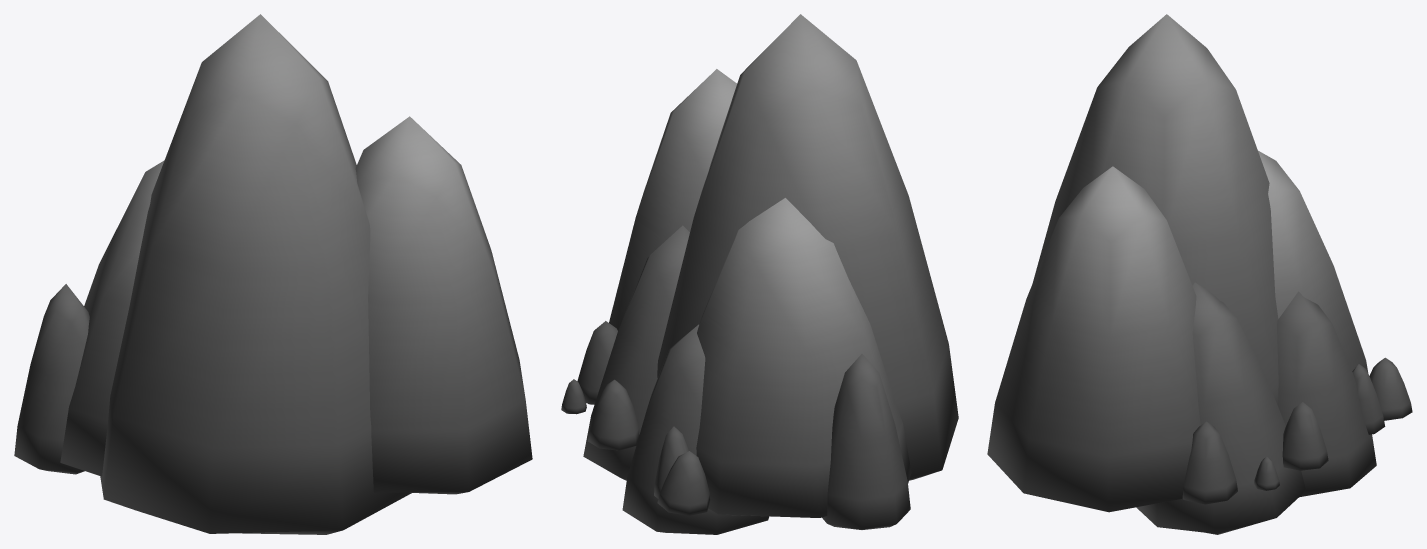
File: Variation_02.fbx
The picture shows the model from 3 angles, left to right: view 1: azimuth 30°, elevation 25°; view 2: azimuth 150°, elevation 25°; view 3: azimuth 270°, elevation 25°; orthographic projection. The views are drawn at different scales.
Visible parts, largest first — view 1: Cylinder.061, Cylinder.062, Cylinder.058, Cylinder.060; view 2: Cylinder.061, Cylinder.058, Cylinder.060, Cylinder.062, Cylinder.057, Cylinder.022, Cylinder.027, Cylinder.059, Cylinder.023, Cylinder.028, Cylinder.024; view 3: Cylinder.062, Cylinder.061, Cylinder.022, Cylinder.057, Cylinder.058, Cylinder.023, Cylinder.027, Cylinder.059, Cylinder.028, Cylinder.024.
Boxes of the visible parts, x1,y1,x2,y2 form: Cylinder.061: (100, 14, 411, 534); Cylinder.062: (355, 116, 532, 494); Cylinder.058: (60, 160, 164, 476); Cylinder.060: (14, 284, 89, 474); Cylinder.061: (657, 14, 958, 480); Cylinder.058: (696, 198, 911, 517); Cylinder.060: (822, 354, 910, 529); Cylinder.062: (609, 69, 736, 330); Cylinder.057: (622, 324, 769, 534); Cylinder.022: (583, 225, 689, 480); Cylinder.027: (588, 379, 639, 450); Cylinder.059: (657, 451, 710, 515); Cylinder.023: (577, 321, 617, 404); Cylinder.028: (654, 426, 688, 498); Cylinder.024: (561, 379, 586, 414); Cylinder.062: (987, 166, 1200, 512); Cylinder.061: (1033, 14, 1278, 405); Cylinder.022: (1136, 282, 1305, 534); Cylinder.057: (1277, 291, 1376, 497); Cylinder.058: (1258, 150, 1368, 372); Cylinder.023: (1182, 421, 1237, 504); Cylinder.027: (1282, 402, 1328, 470); Cylinder.059: (1369, 357, 1412, 420); Cylinder.028: (1352, 364, 1385, 434); Cylinder.024: (1253, 456, 1279, 490).
Size of the model in its own units: 1011 by 1172 by 1007.
